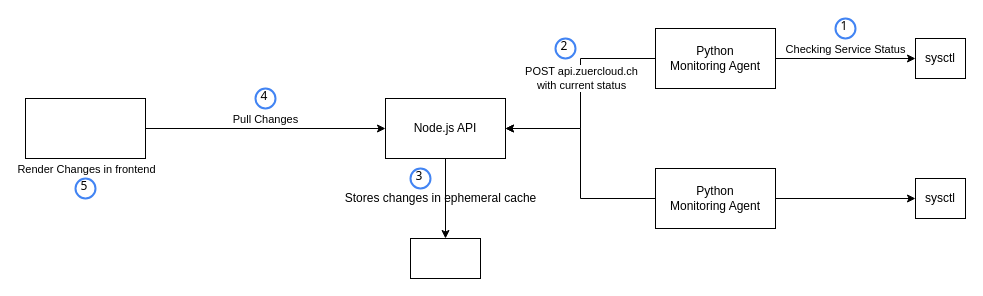
This 983x296 diagram has some shape labels left out. The centre of each missing label's shape, as x and y in pixels:
"Frontend" belongs at (x=85, y=128).
"Node Cache" belongs at (x=445, y=258).
